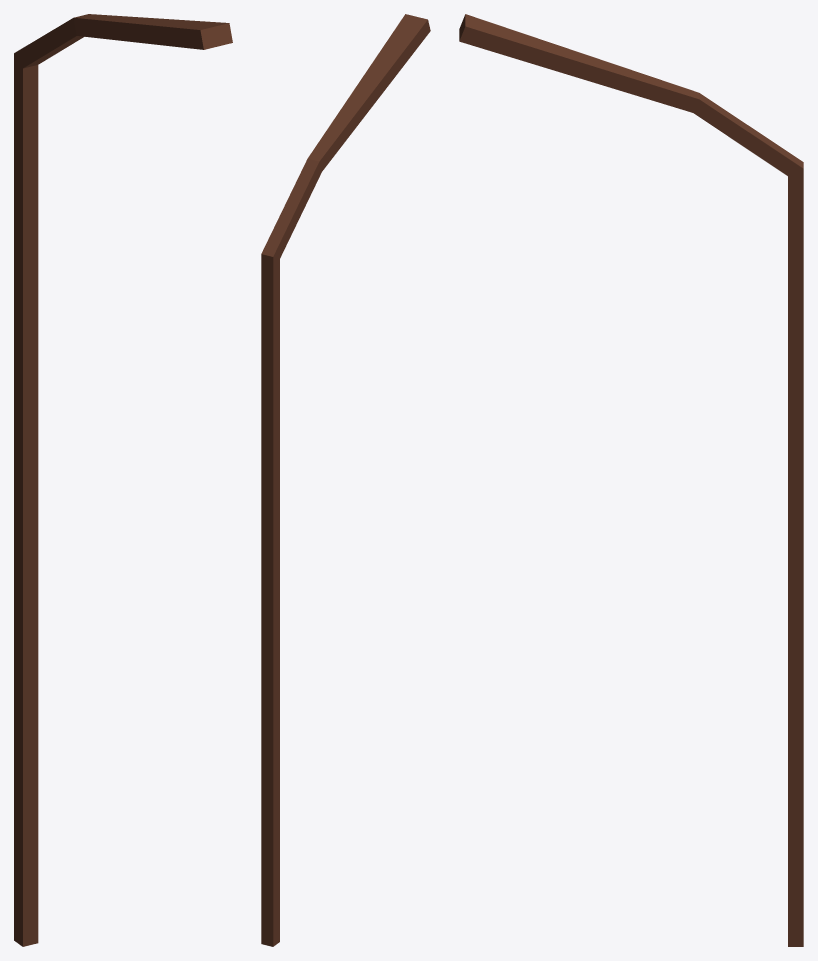
File: Prop_Light_Road_A_col.fbx
3 views of the same model, side by side, from view 1: azimuth 30°, elevation 25°; view 2: azimuth 150°, elevation 25°; view 3: azimuth 270°, elevation 25° (orthographic). The views are drawn at different scales.
Visible parts, largest first — view 1: Prop_Light_Road_A_col; view 2: Prop_Light_Road_A_col; view 3: Prop_Light_Road_A_col.
Part boxes in pixels (x1,y1,x2,y2): Prop_Light_Road_A_col: (14,14,232,946); Prop_Light_Road_A_col: (261,14,430,946); Prop_Light_Road_A_col: (459,14,803,946).
Size of the model in its own units: 28.45 by 985 by 333.
